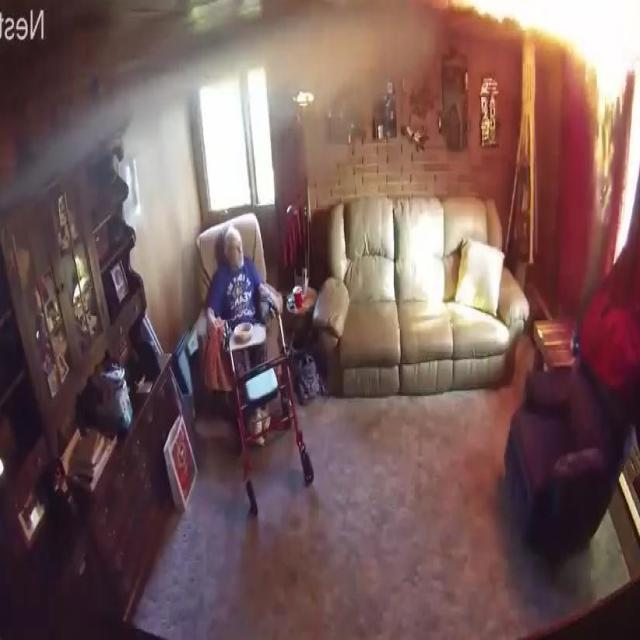fire: (179, 0, 436, 133)
smoke: (445, 0, 640, 65), (585, 0, 640, 230)
